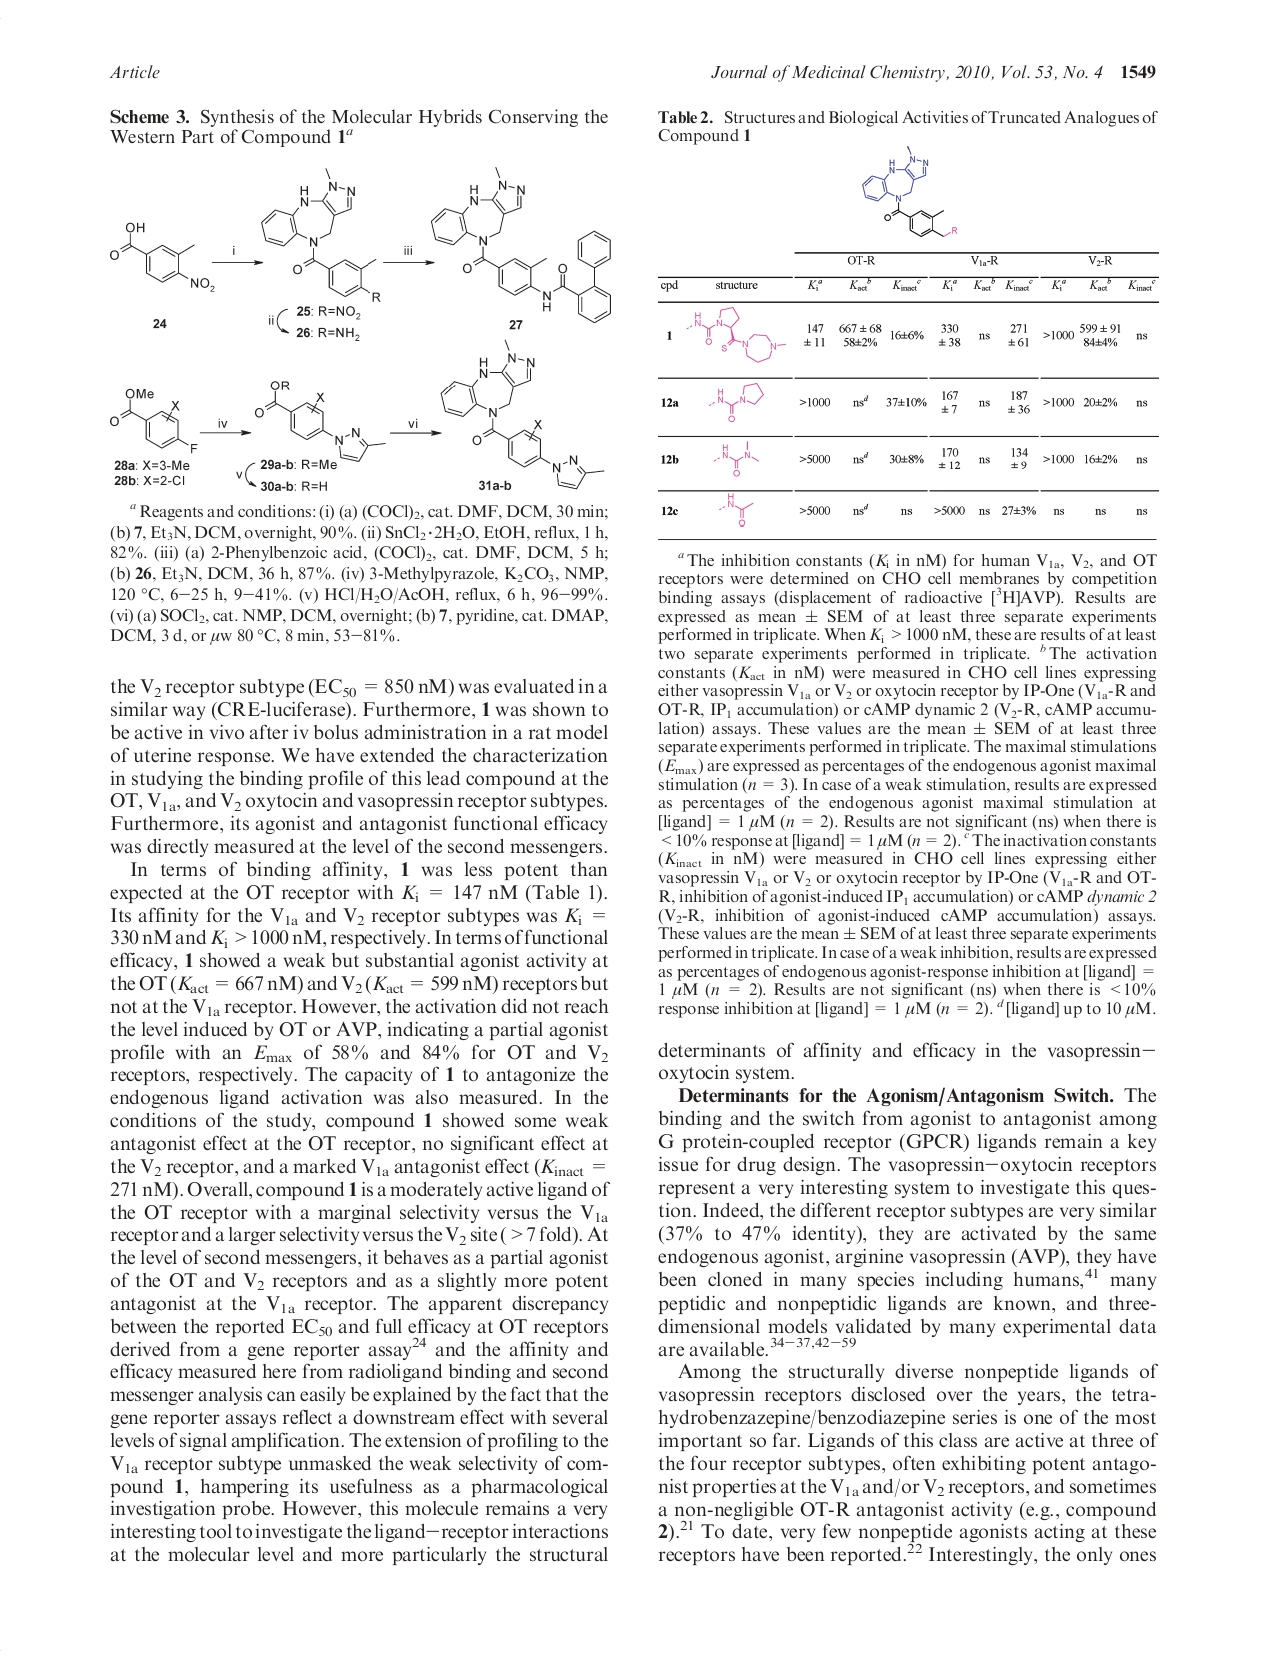exist_molecular: (430, 162, 613, 324), (438, 338, 605, 491), (261, 166, 383, 305), (254, 376, 387, 464), (862, 144, 959, 238), (109, 221, 211, 291), (110, 387, 195, 453)
